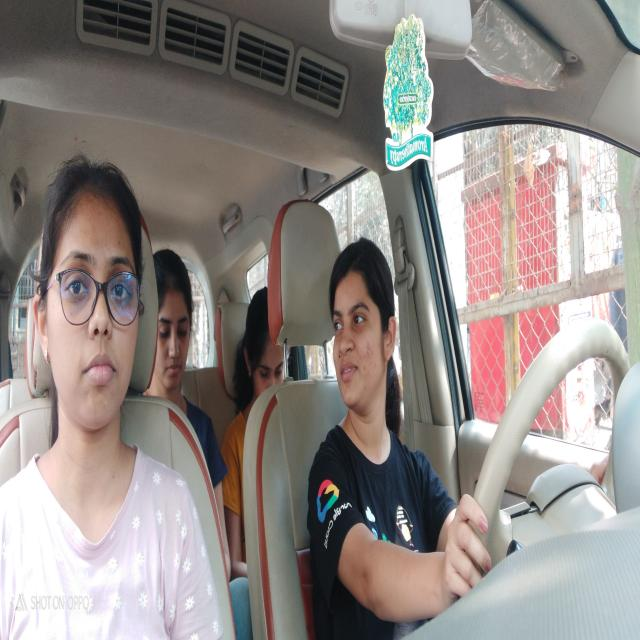LeftRight: (329, 252, 397, 403)
person: (45, 177, 145, 425), (245, 296, 288, 387), (159, 272, 192, 382)
